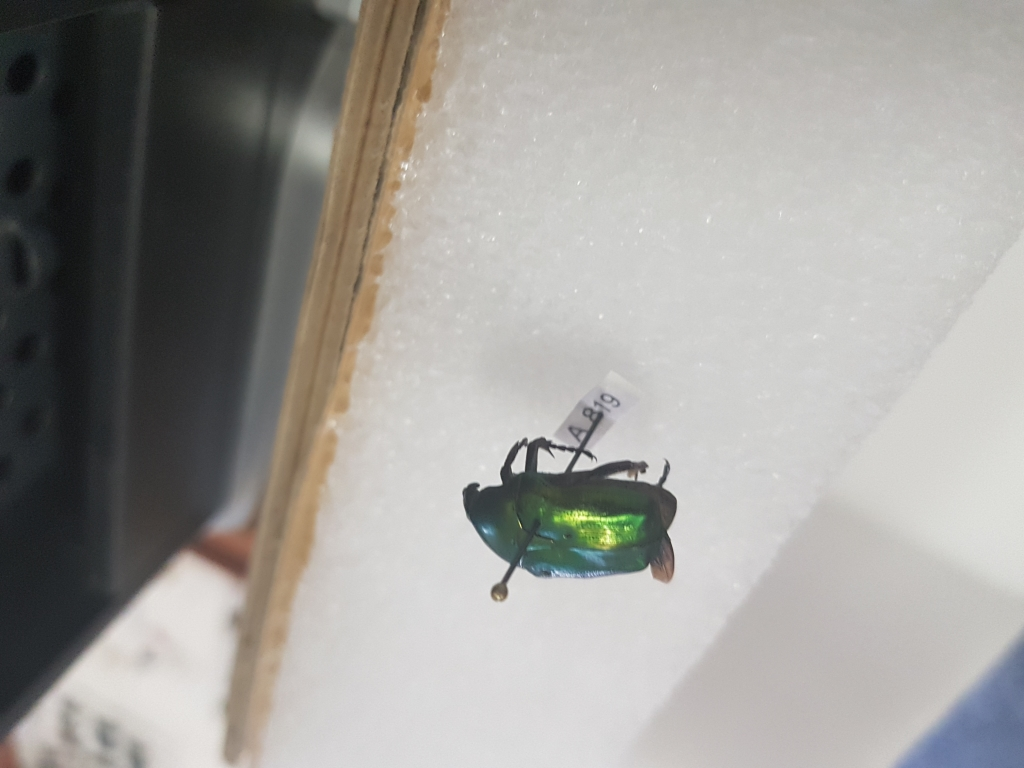Protaetia_cuprea_ignicollis: (460, 431, 680, 589)
